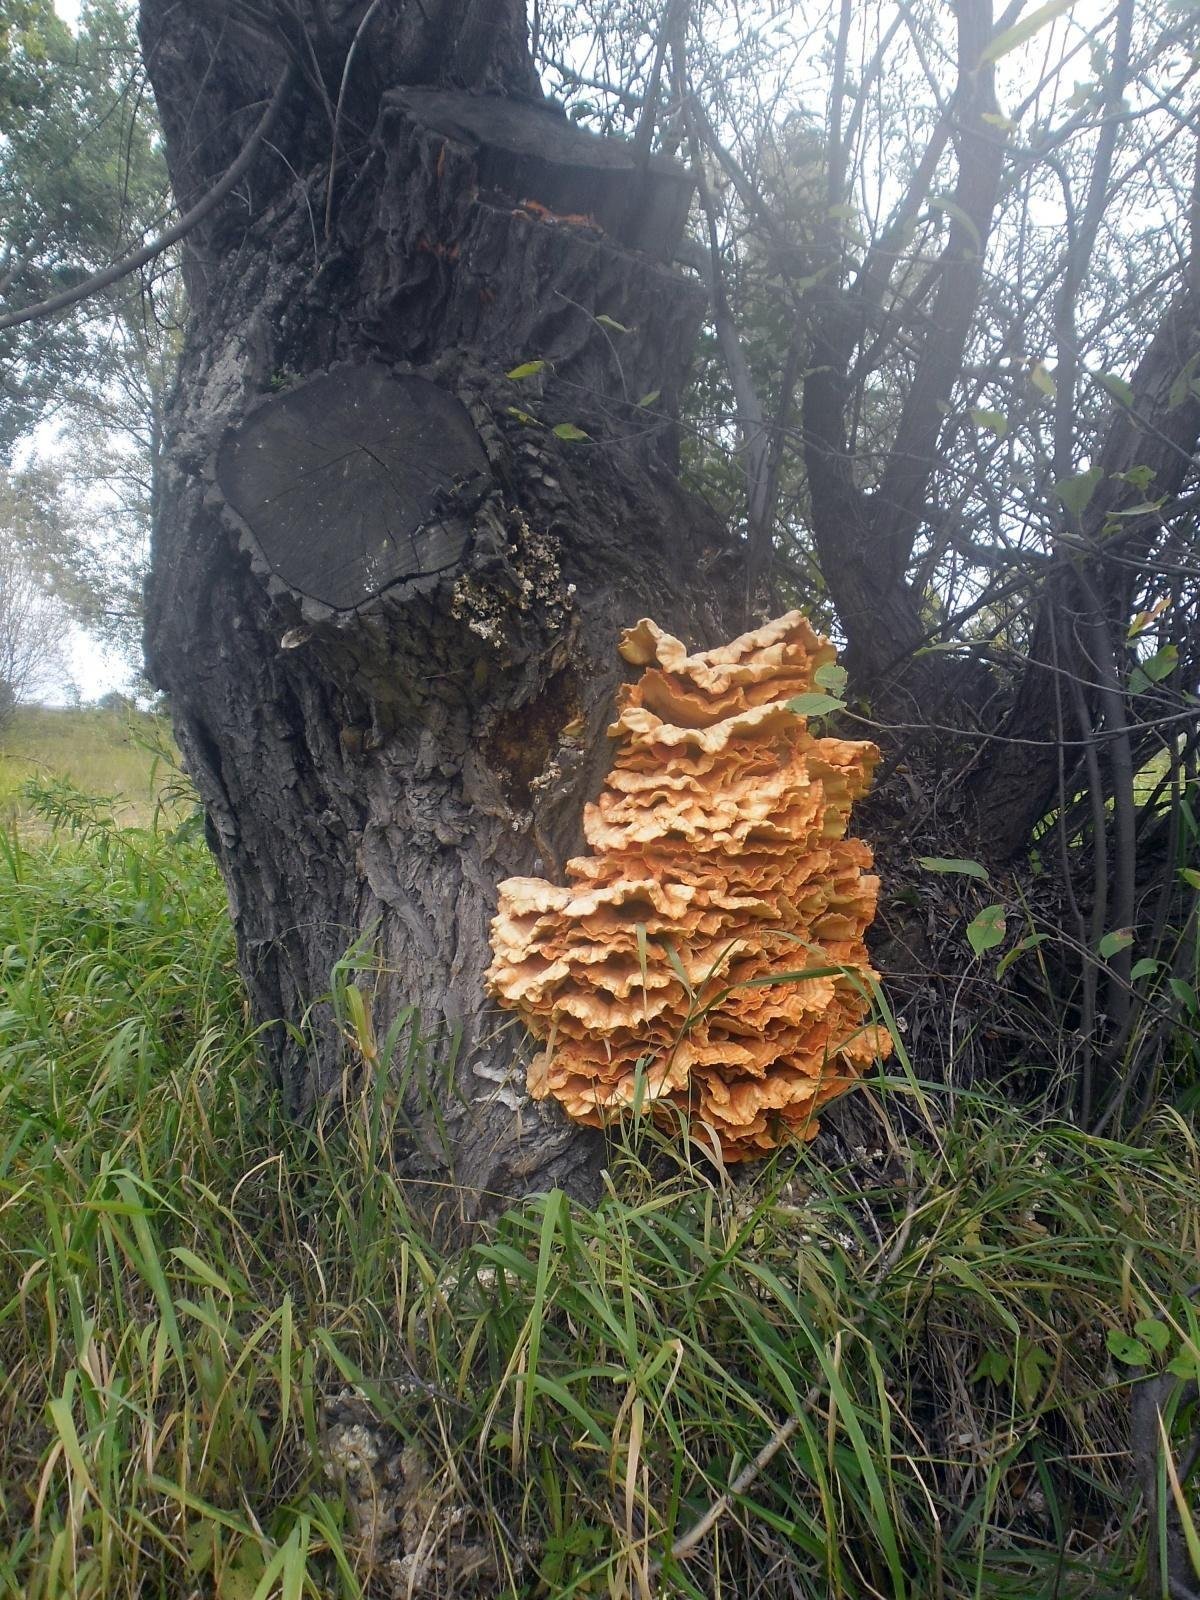Sulphur-yellow tinder fungus: (488, 612, 887, 1159)
